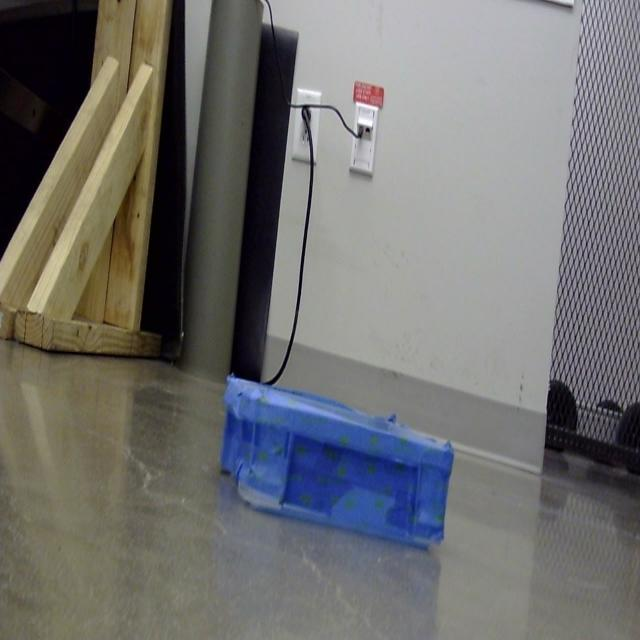bucket: (220, 378, 455, 551)
